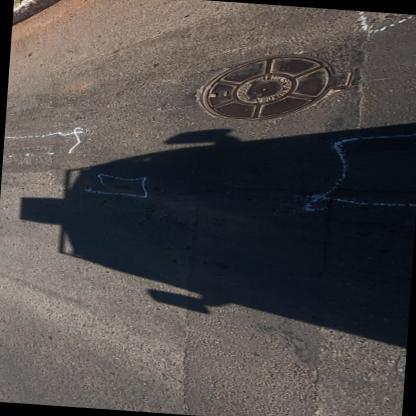manholes: (182, 41, 365, 131)
